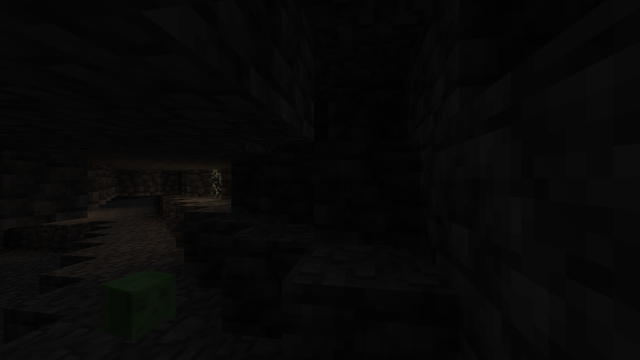slimes: (118, 268, 176, 340)
